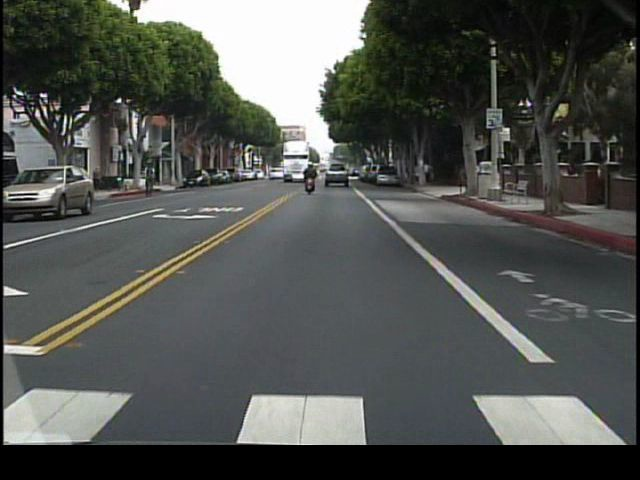person: (304, 159, 322, 201), (142, 162, 161, 196), (429, 159, 437, 186), (425, 160, 430, 183)
